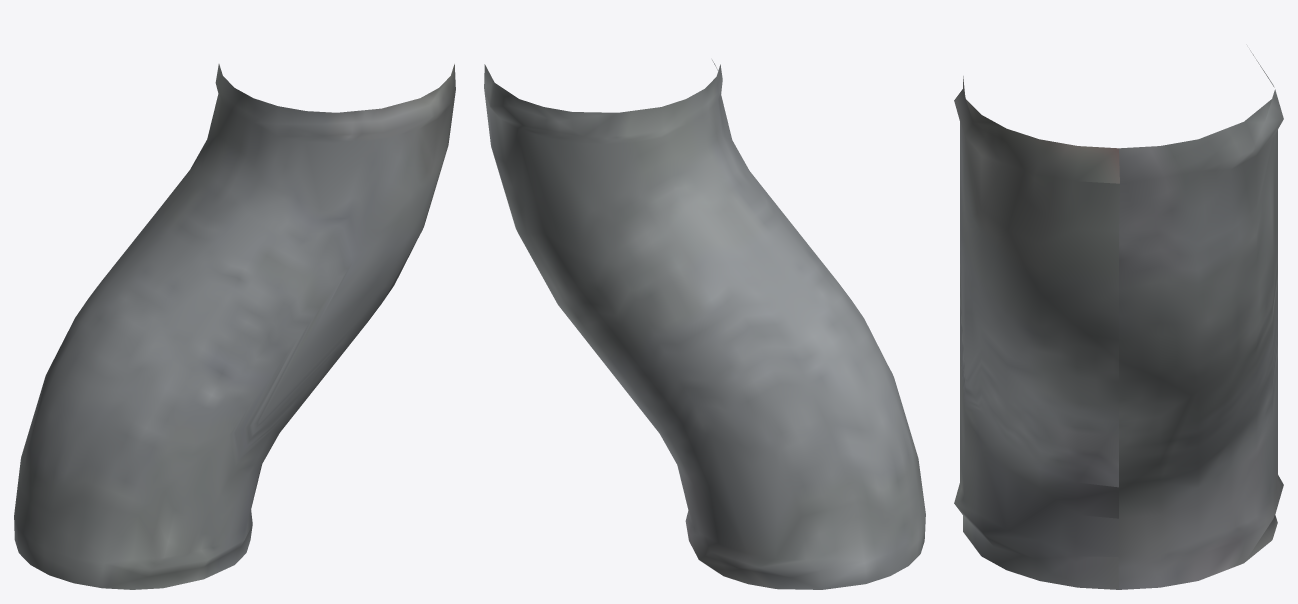
File: modular-pipes-s-curve.glb
The picture shows the model from 3 angles, left to right: view 1: azimuth 30°, elevation 25°; view 2: azimuth 150°, elevation 25°; view 3: azimuth 270°, elevation 25°; orthographic projection. The views are drawn at different scales.
Visible parts, largest first — view 1: modular_pipes_s_curve; view 2: modular_pipes_s_curve; view 3: modular_pipes_s_curve.
Part boxes in pixels (left/top/right/bottom): modular_pipes_s_curve: left=14, top=64, right=455, bottom=589; modular_pipes_s_curve: left=484, top=60, right=925, bottom=589; modular_pipes_s_curve: left=954, top=50, right=1283, bottom=589.
Bounding box in the file's own units: 0.2007 × 0.2 × 0.1038.
Materials: 1 (1 with a texture image).
